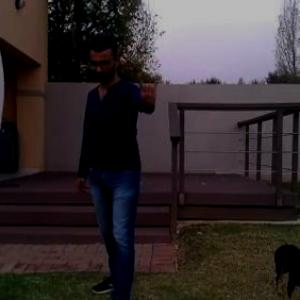takeoff-hand: (131, 63, 164, 105)
